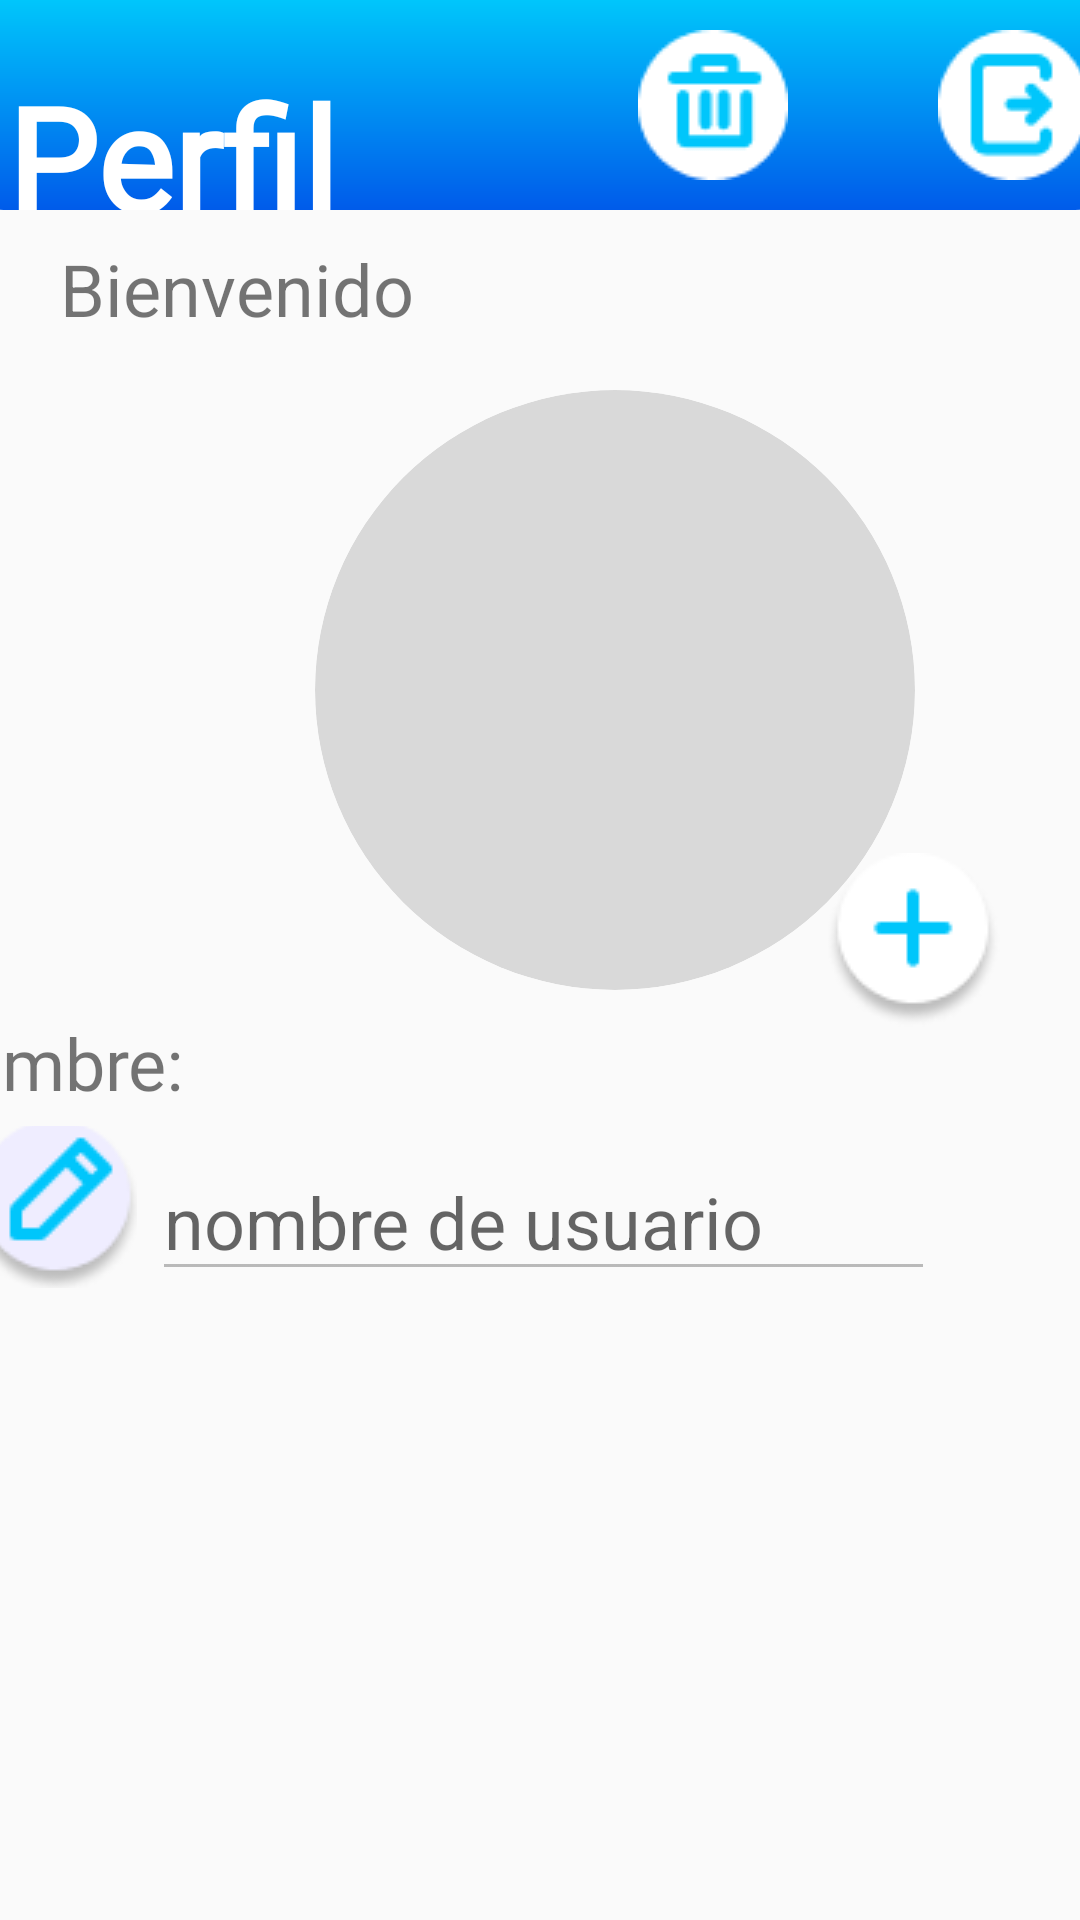

Screen size 1080 x 1920. Icon name, then its center in pixels as [x,y]:
Boton CerrarSesion: [1009,105]
Boton eliminar cuenta: [713,105]
cambiar foto de perfil: [913,952]
